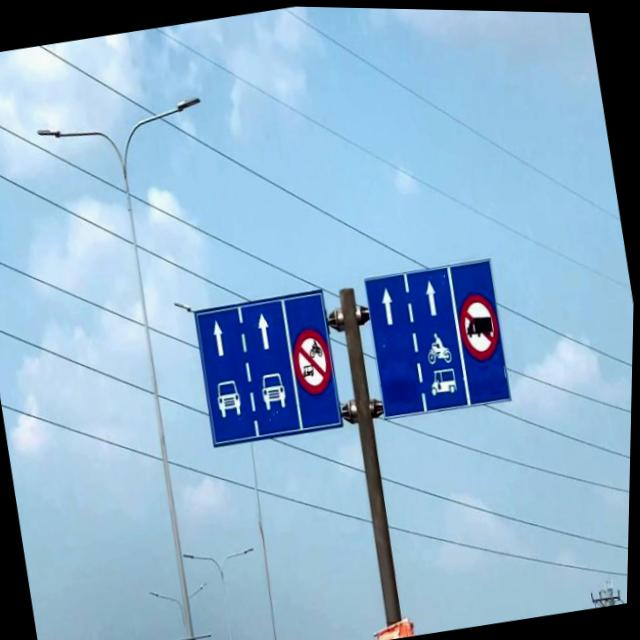Cam xe tai: (454, 286, 507, 363)
